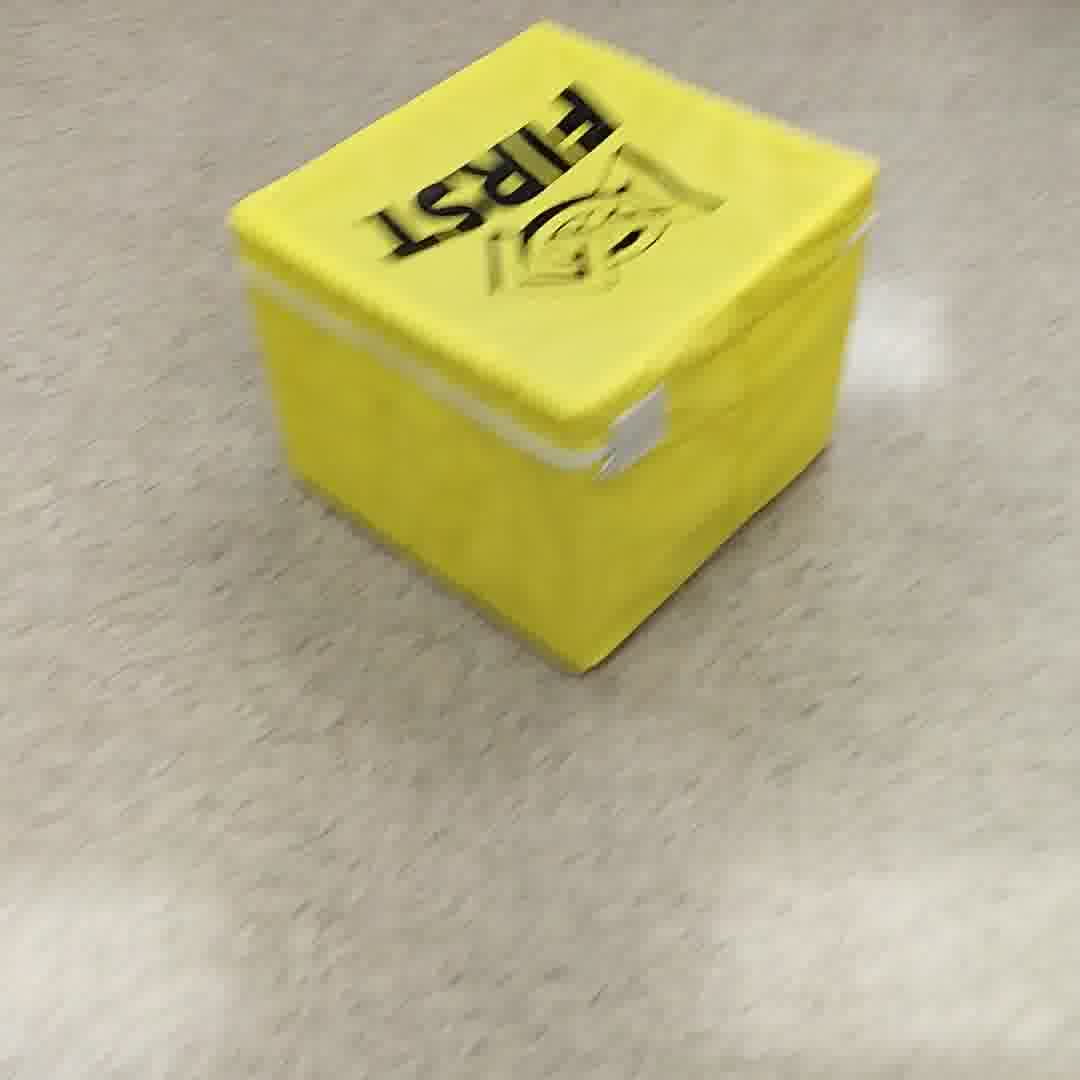box: (197, 23, 880, 687)
